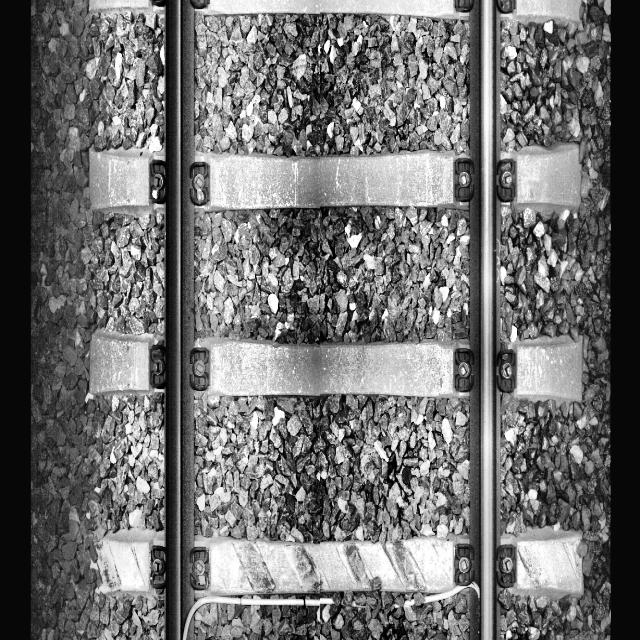Clips: (187, 160, 211, 207), (495, 347, 517, 396), (187, 345, 211, 388), (495, 155, 517, 200), (189, 546, 210, 592), (453, 541, 474, 587), (454, 154, 474, 202), (495, 545, 517, 588), (148, 543, 168, 589), (454, 346, 473, 392), (148, 344, 165, 385), (149, 160, 166, 201), (494, 0, 514, 11), (453, 0, 472, 9)
Sleepers: (87, 136, 584, 220), (88, 324, 587, 406), (98, 524, 586, 604), (86, 0, 588, 23)
